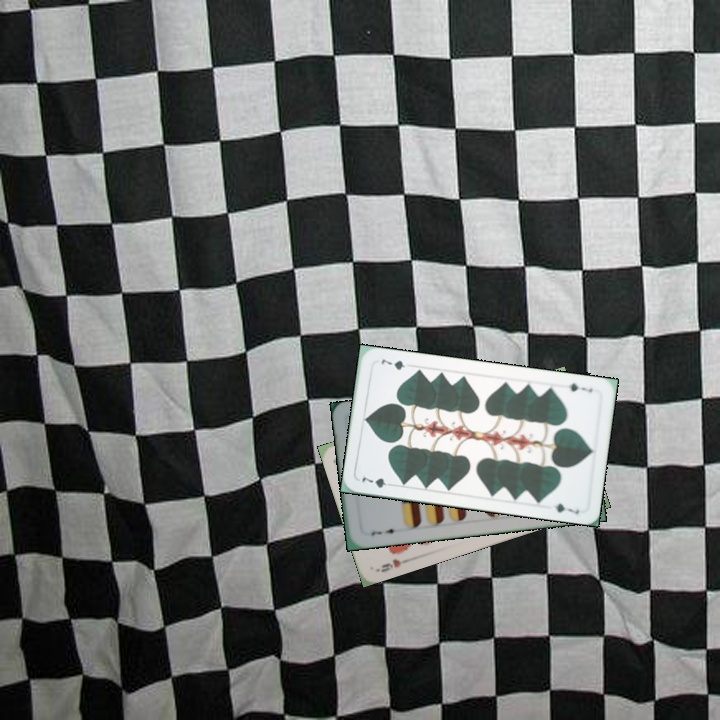E7: (366, 525, 401, 538)
G7: (358, 473, 397, 490), (565, 379, 595, 395)
H9: (373, 555, 412, 575)
